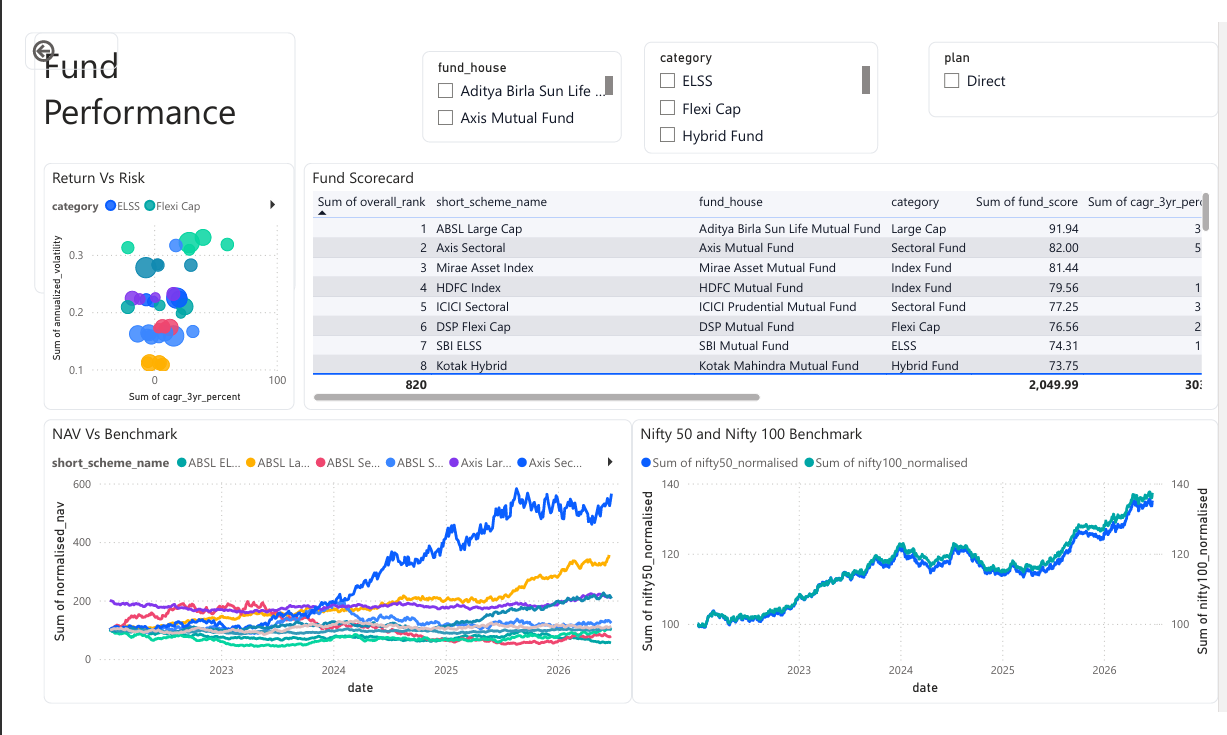

The dashboard page shown, as its layout file describes it:
{"tool":"powerbi","page":{"name":"Fund Performance","canvas":[1280,720],"ordinal":1},"visuals":[{"type":"textbox","box":[10,0,280,280],"z":0},{"type":"scatterChart","title":"Return Vs Risk","fields":{"X":["Sum(dim_fund.cagr_3yr_percent)"],"Y":["Sum(dim_fund.annualized_volatility)"],"Series":["dim_fund.category"],"Category":["dim_fund.short_scheme_name"],"Size":["dim_date.Total AUM by AMC"]},"box":[20,139.7,269.4,265.1],"z":1},{"type":"tableEx","title":"Fund Scorecard","fields":{"Values":["Sum(dim_fund.overall_rank)","dim_fund.short_scheme_name","dim_fund.fund_house","dim_fund.category","Sum(dim_fund.fund_score)","Sum(dim_fund.cagr_3yr_percent)","Sum(dim_fund.sharpe_ratio)","Sum(dim_fund.sortino_ratio)","Sum(dim_fund.alpha_annual_percent)","Sum(dim_fund.beta)","Sum(dim_fund.max_drawdown_percent)","Sum(dim_fund.expense_ratio_percent)"]},"box":[299.3,139.7,980.7,265.1],"z":2},{"type":"actionButton","box":[0,0,100,40],"z":3},{"type":"slicer","fields":{"Values":["dim_fund.fund_house"]},"box":[426.2,20,213.8,98.4],"z":4},{"type":"slicer","fields":{"Values":["dim_fund.category"]},"box":[664.2,10,250.9,119.7],"z":5},{"type":"slicer","fields":{"Values":["dim_fund.plan"]},"box":[969.3,10,310.7,81.2],"z":6},{"type":"lineChart","title":"NAV Vs Benchmark","fields":{"Category":["fact_nav.date"],"Y":["Sum(fact_nav.normalised_nav)"],"Series":["dim_fund.short_scheme_name"]},"box":[20,414.8,631.4,305],"z":7},{"type":"lineChart","title":"Nifty 50 and Nifty 100 Benchmark","fields":{"Category":["fact_benchmark.date"],"Y":["Sum(fact_benchmark.nifty50_normalised)"],"Y2":["Sum(fact_benchmark.nifty100_normalised)"]},"box":[651.4,414.8,628.6,305],"z":8}]}

Visuals, with their boxes on the page's 1280x720 design canvas (x1, y1, x2, y2). These are canvas units, not pixel positions in the 1227x735 screenshot, which may show the page scaled, cropped or inside an application window:
textbox: 10 0 290 280
"Return Vs Risk" scatterChart: 20 140 289 405
"Fund Scorecard" tableEx: 299 140 1280 405
actionButton: 0 0 100 40
slicer - dim_fund.fund_house: 426 20 640 118
slicer - dim_fund.category: 664 10 915 130
slicer - dim_fund.plan: 969 10 1280 91
"NAV Vs Benchmark" lineChart: 20 415 651 720
"Nifty 50 and Nifty 100 Benchmark" lineChart: 651 415 1280 720
